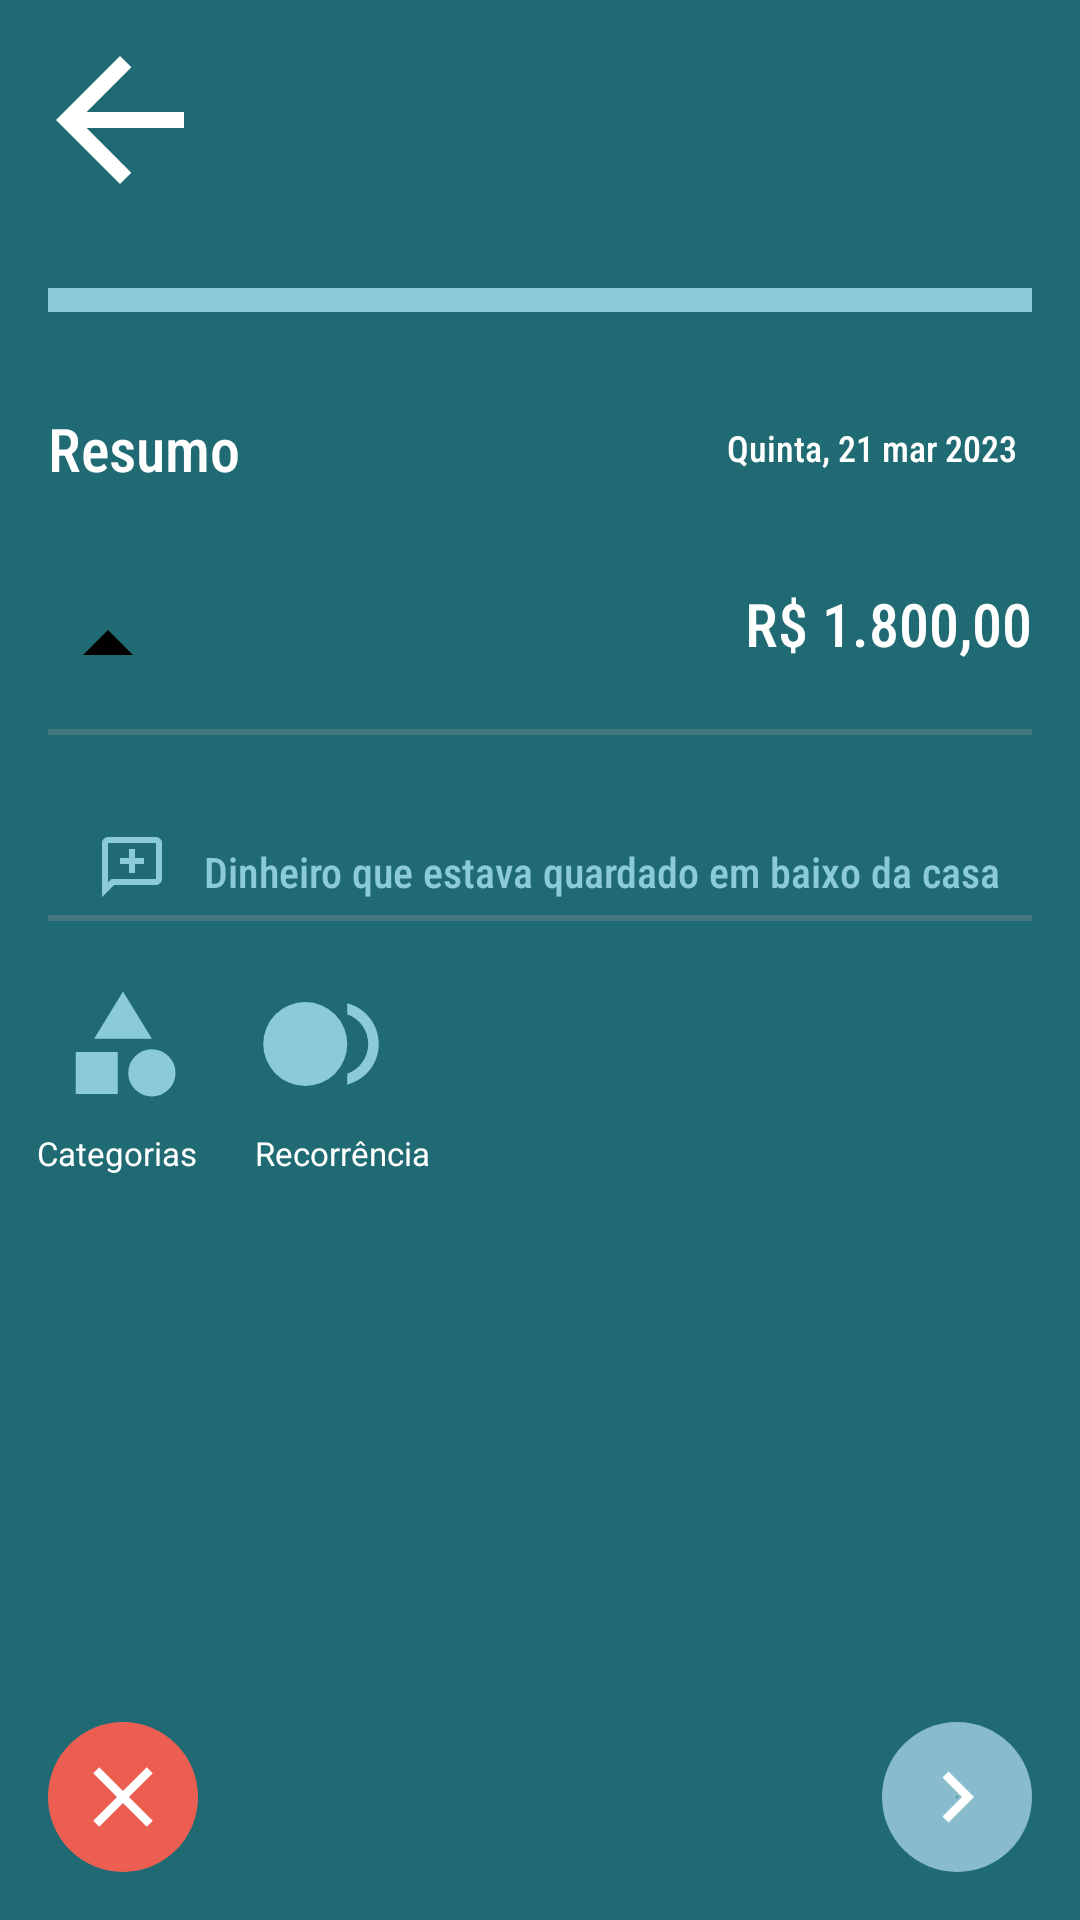

Point at icon controls on the screen. Image size 1080×1920, points as (x,y).
add comment: (132,867)
Ao acionado, finaliza a view: (123,1797)
arrow back: (120,120)
arrow drop up: (108,642)
category: (125,1044)
right: (957,1797)
